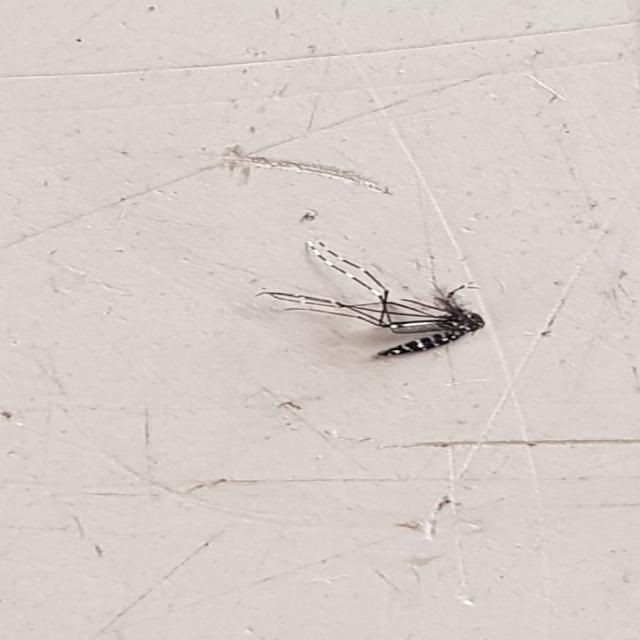albopictus: (247, 228, 499, 376)
